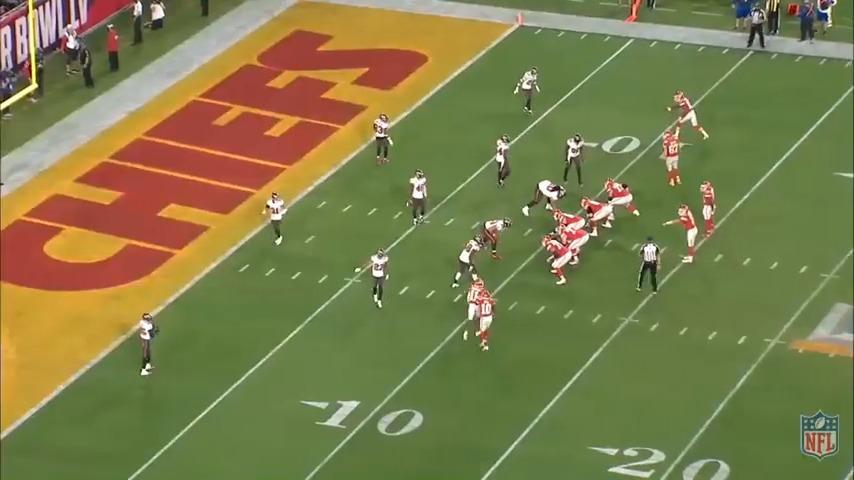player: (671, 89, 712, 143), (663, 201, 698, 264), (361, 245, 392, 310), (451, 231, 483, 292), (132, 312, 158, 381), (522, 178, 569, 216), (472, 283, 496, 354), (543, 236, 576, 286), (463, 276, 487, 343), (604, 178, 642, 220), (265, 189, 290, 249), (660, 128, 683, 191), (480, 217, 511, 263), (562, 133, 587, 189), (583, 196, 617, 237), (406, 169, 429, 228), (372, 110, 395, 168), (491, 132, 513, 192), (515, 64, 541, 114), (558, 224, 589, 265), (702, 179, 722, 237), (552, 208, 586, 234)
ref: (638, 235, 663, 296), (743, 2, 769, 52)
